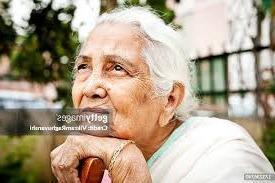Human: (64, 6, 260, 183)
